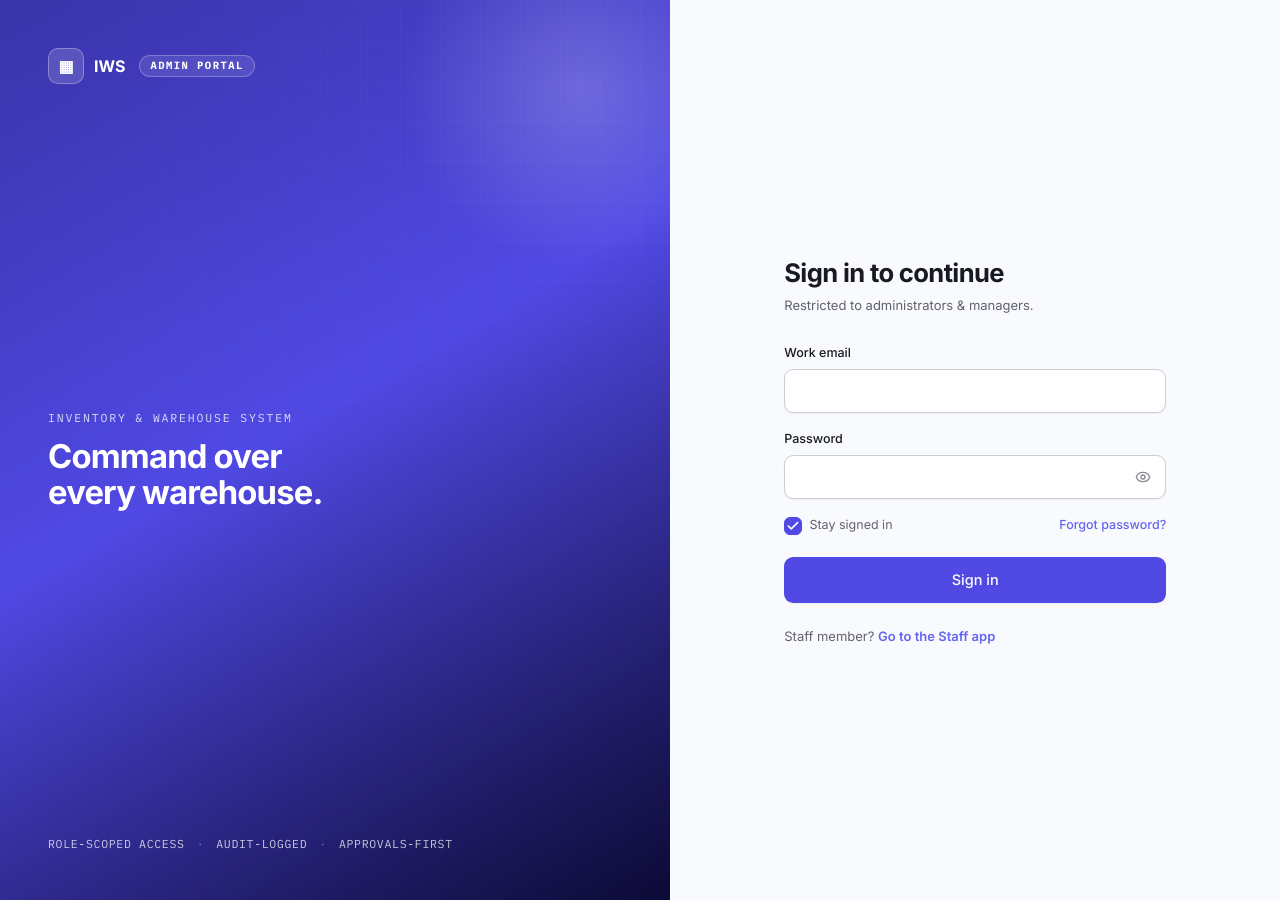
Scenario: AdminLoginPage › rejects a valid STAFF account in place, with a link to the Staff app
In the field labelled "Work email": (975, 391) [784,369,1166,413], type "staff@iws.local"
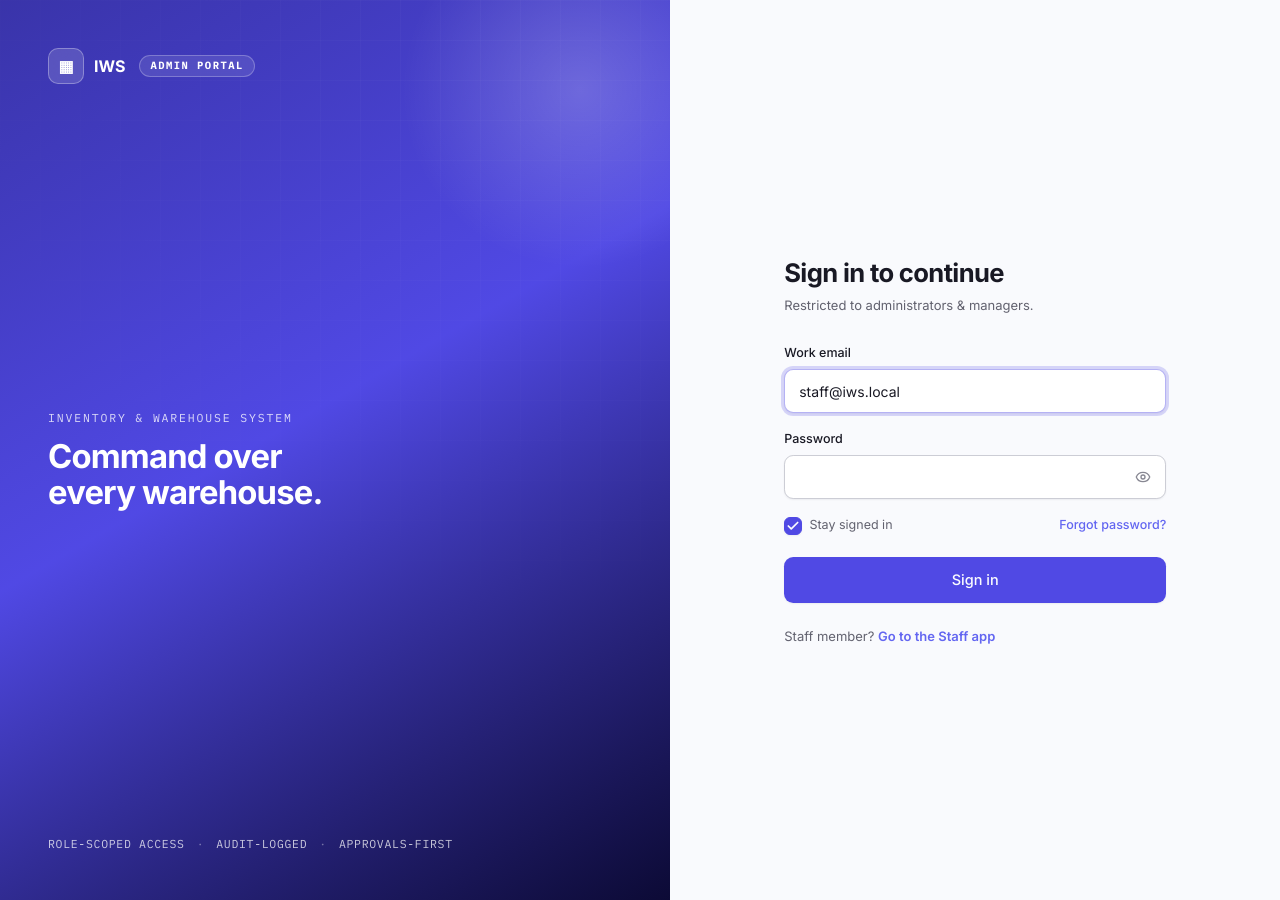
In the password field labelled "Password": (975, 478) [784,456,1166,500], type "Staff@12345"
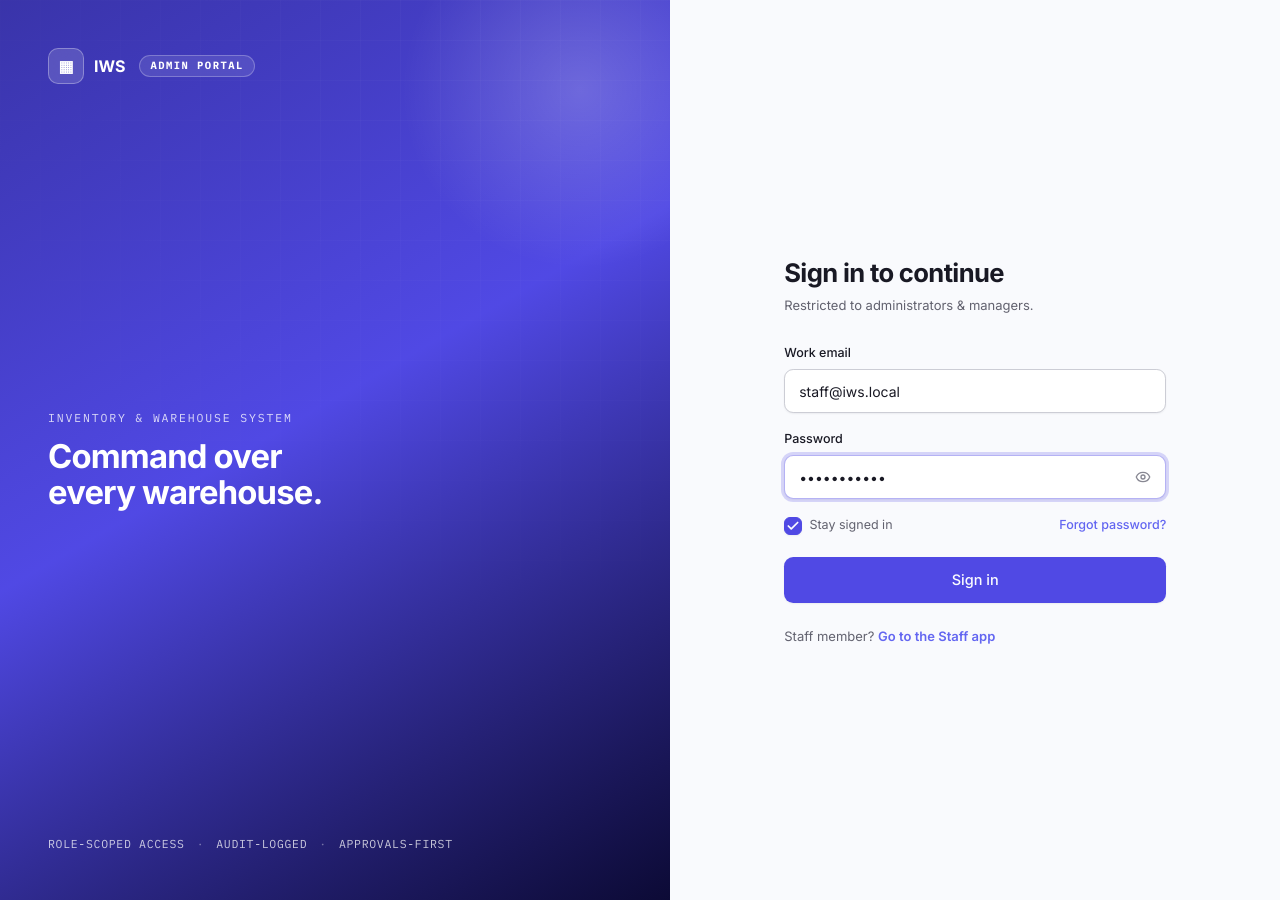
Click the button "Sign in": click(975, 580) [784,557,1166,603]
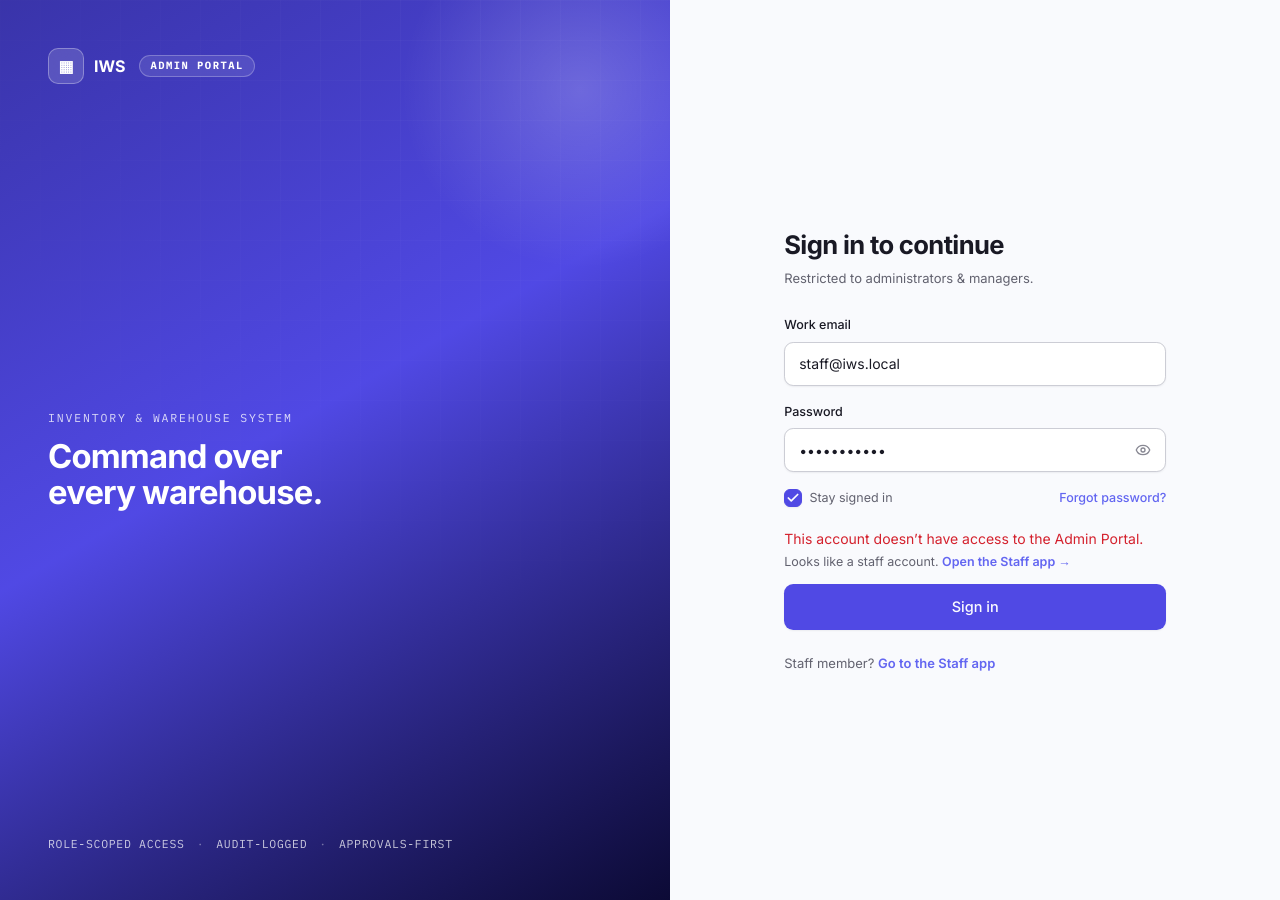
expect the text "This account doesn’t have access to the Admin Portal." is shown: met, box [784,529,1166,549]
expect the link "Open the Staff app →" is shown: met, box [942,554,1071,569]
